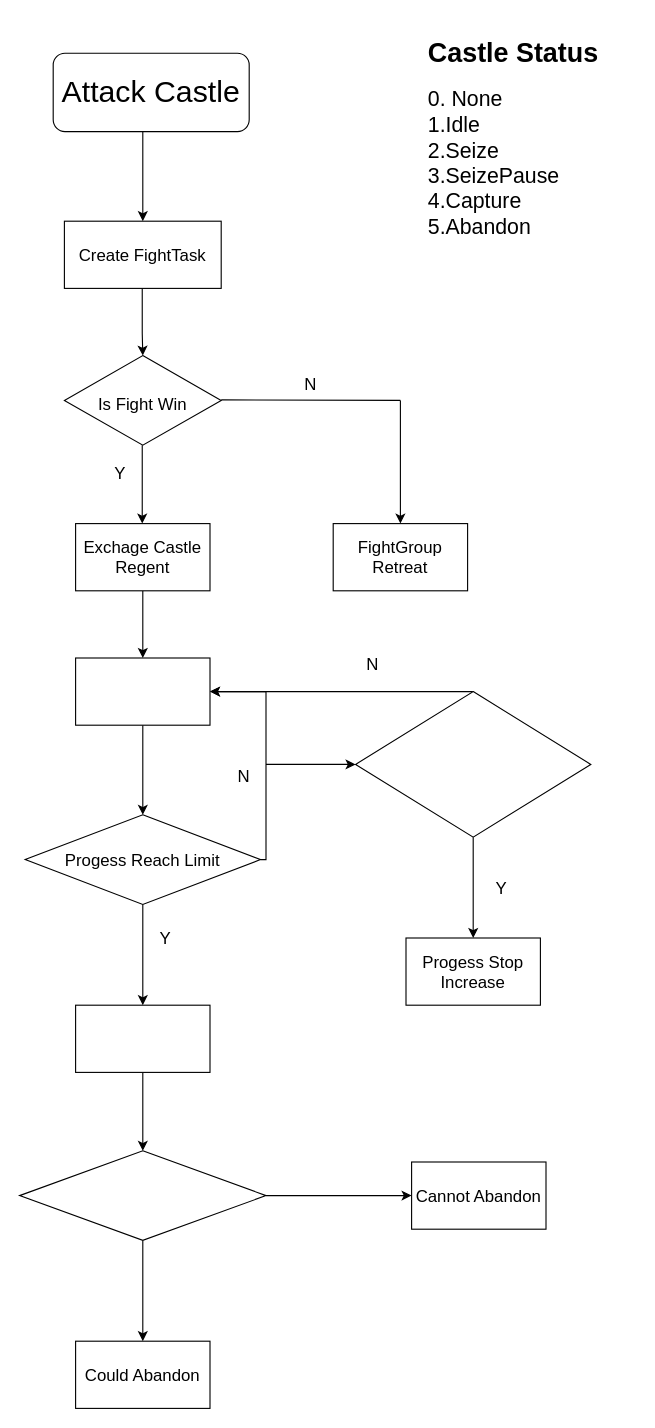
The diagram is 655 pixels wide and 1428 high, and some of its shapes have lost their labels. The centre of each missing label's shape, as x and y in pixels:
Garrison Retreat: (x=472, y=763)
Progess Increase: (x=142, y=691)
Satisfy Time Limit: (x=142, y=1195)
Totally Capture: (x=142, y=1038)
